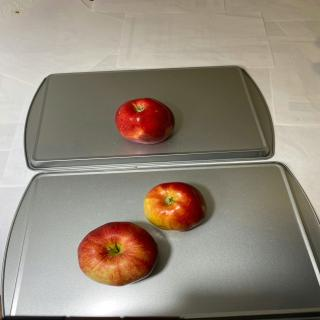Apple: (77, 222, 159, 286), (144, 182, 208, 232), (115, 98, 175, 144)
